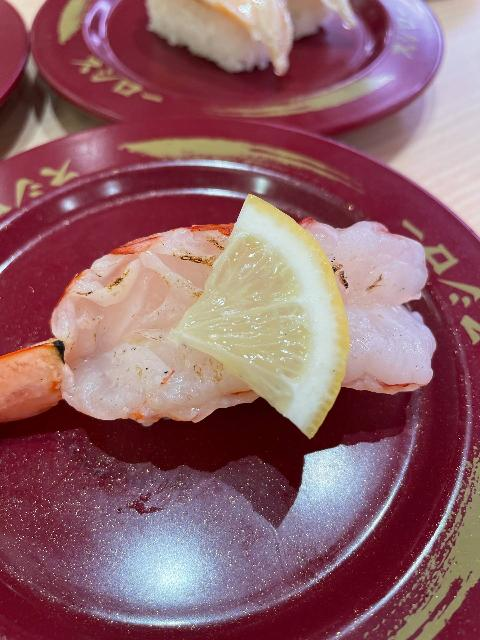janred: (0, 136, 475, 640), (23, 0, 462, 138), (0, 2, 35, 108)
